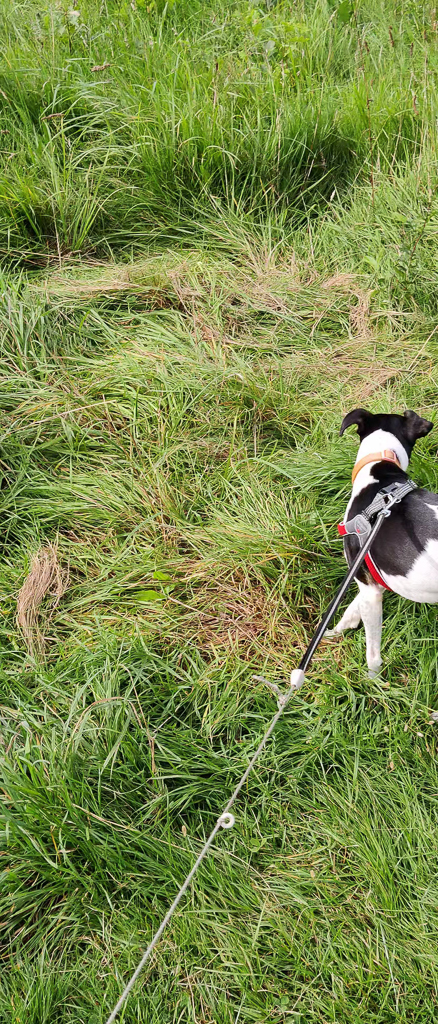Dog: (304, 396, 438, 692)
